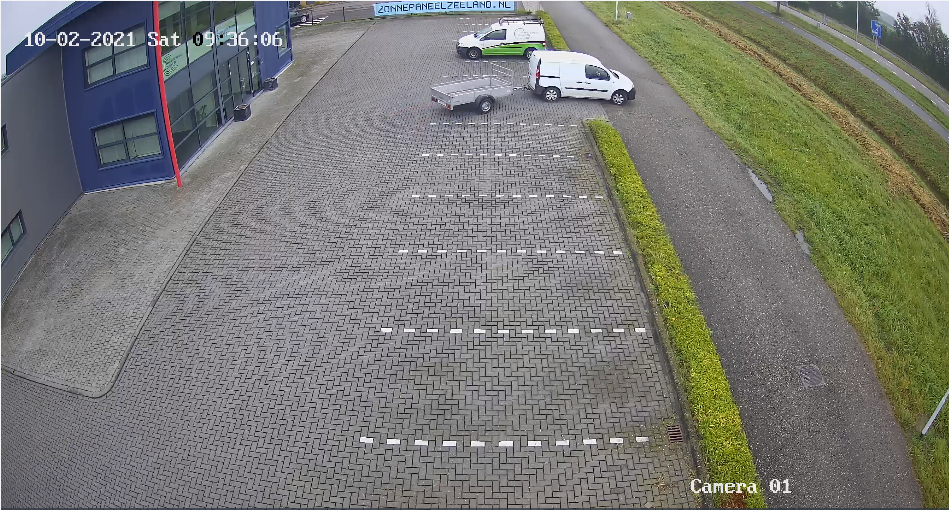werkbus: (520, 46, 645, 112), (452, 11, 553, 64)
